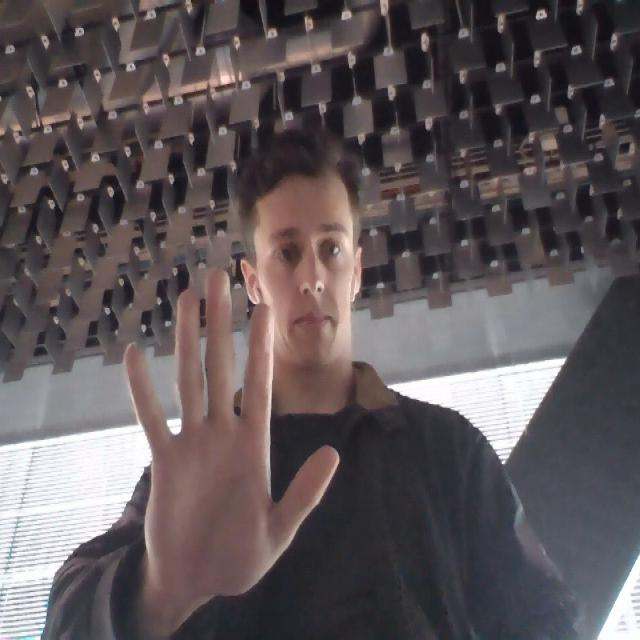backward: (108, 270, 356, 596)
